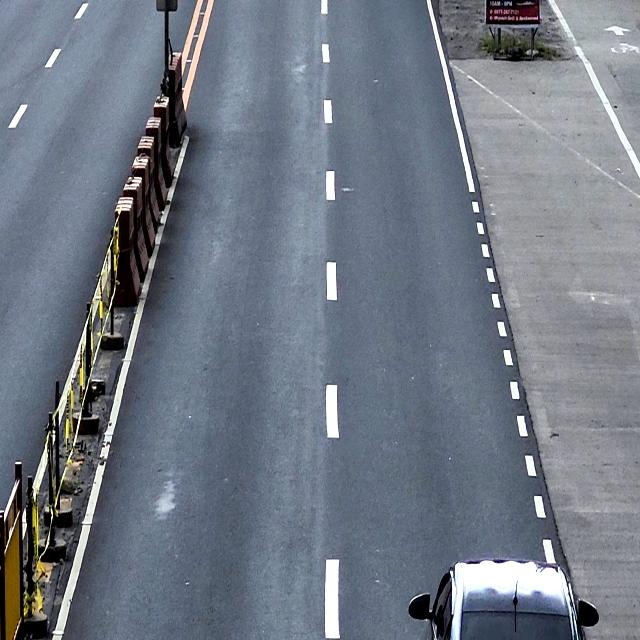Car: (408, 558, 599, 638)
